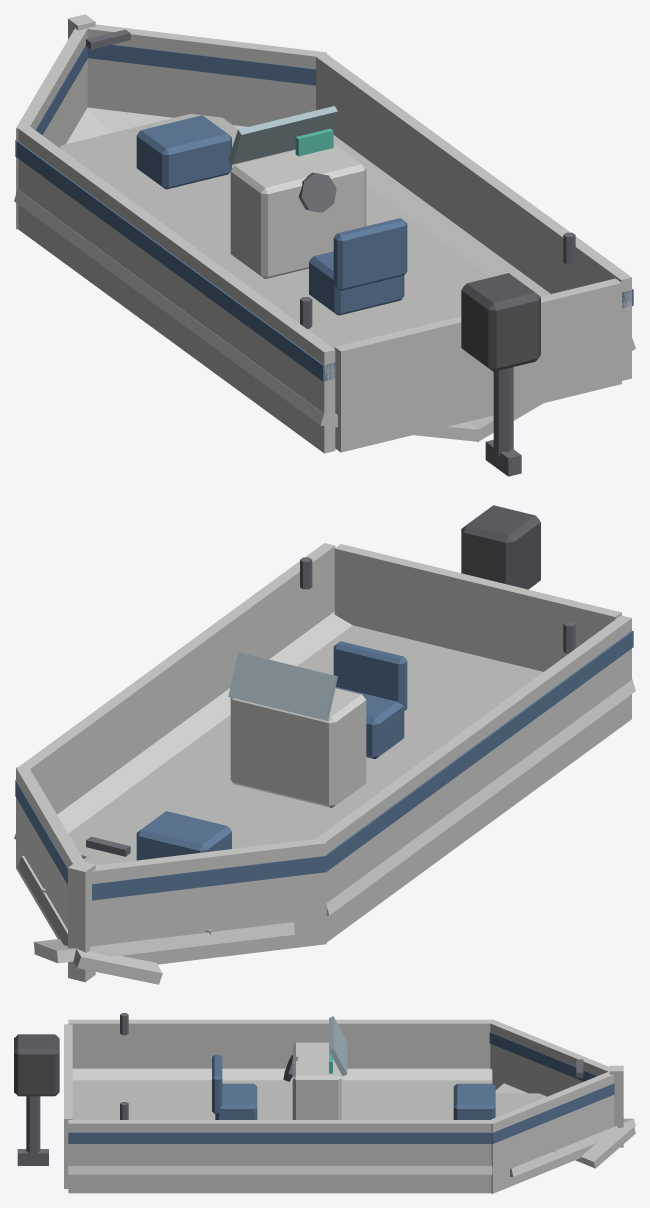
File: DeepV.glb
3 renders of one model, top to bottom at view 1: azimuth 30°, elevation 25°; view 2: azimuth 150°, elevation 25°; view 3: azimuth 270°, elevation 25°, orthographic. The views are drawn at different scales.
Visible parts, largest first — view 1: DeepV; view 2: DeepV; view 3: DeepV.
Boxes of the visible parts, box(x1,y1,x2,y2) form: DeepV: box(14, 14, 635, 476); DeepV: box(14, 505, 635, 984); DeepV: box(14, 1013, 635, 1193).
Bounding box in the file's own units: 7.19 × 4.14 × 17.75.
